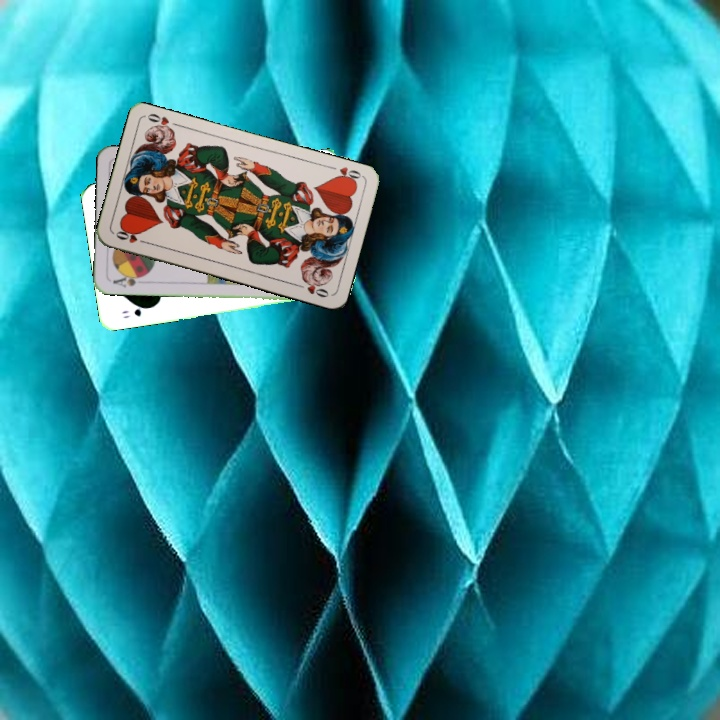GO: (118, 302, 153, 321)
HO: (330, 163, 365, 186), (112, 226, 150, 246)
SA: (109, 270, 148, 290)
